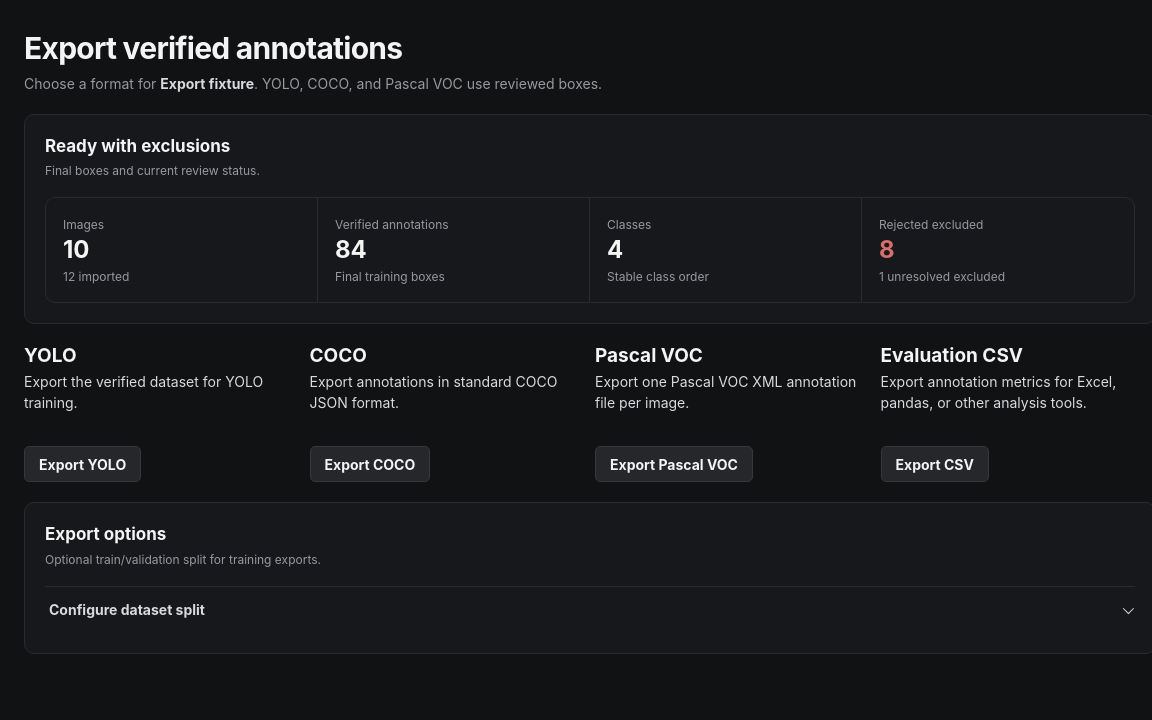
Test: ExportWorkspace › keeps advanced split settings collapsed until requested
Expected: the heading "Ready with exclusions" is shown, [45, 135, 260, 157]
Click the heading "Configure dataset split" at coordinates (127, 610), box [49, 602, 205, 618]
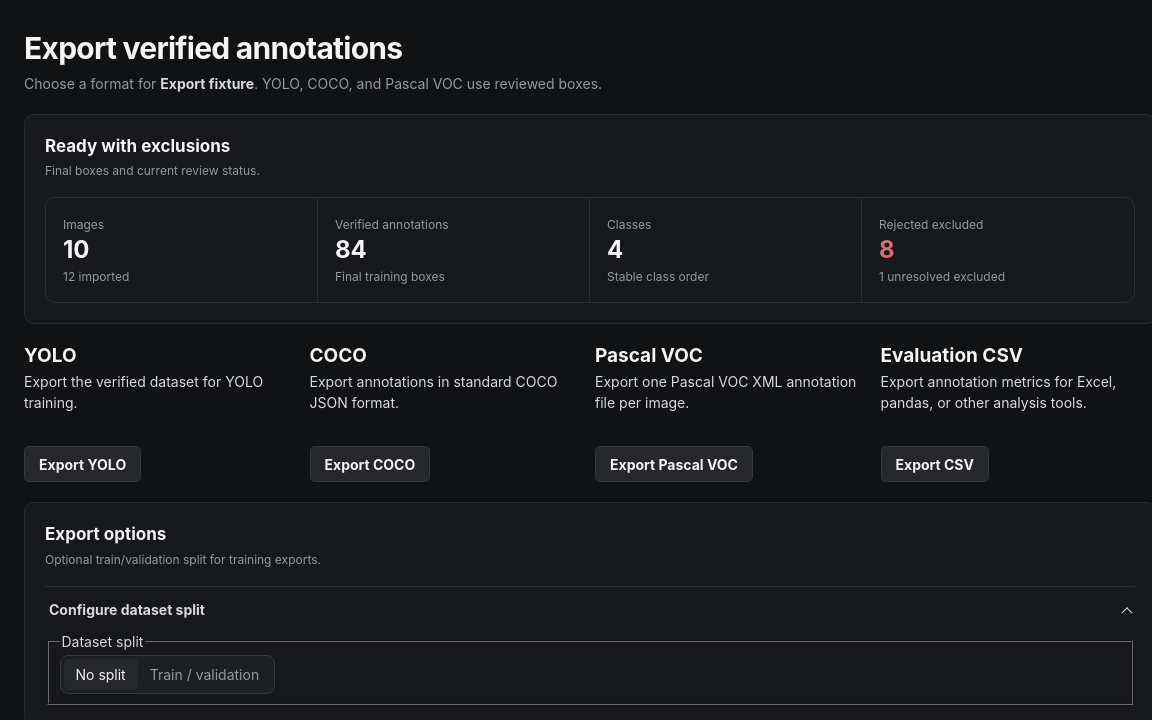
Result: the button "Train / validation" is shown at [138, 659, 271, 690]
